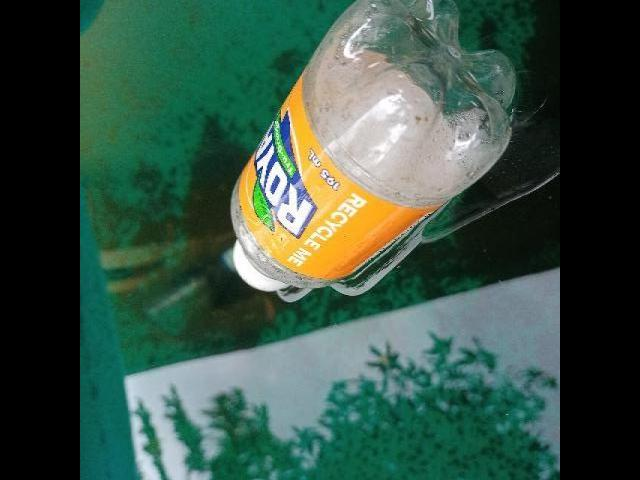Bottle: (221, 0, 519, 305)
